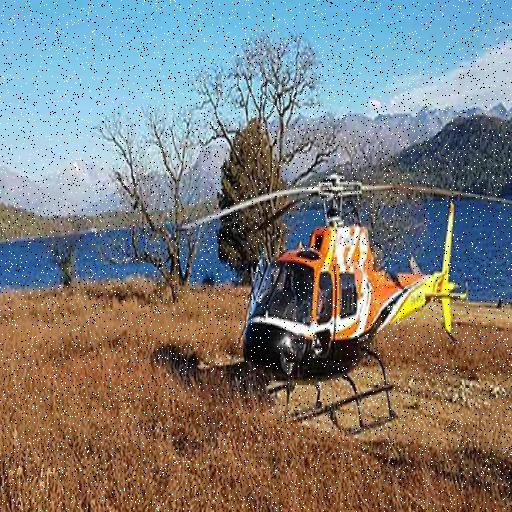helicopter: (173, 150, 512, 443)
